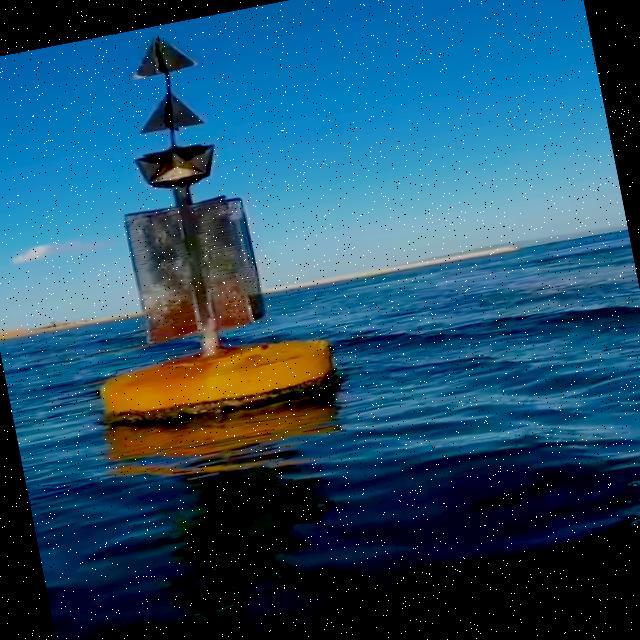marque: (31, 11, 355, 441)
